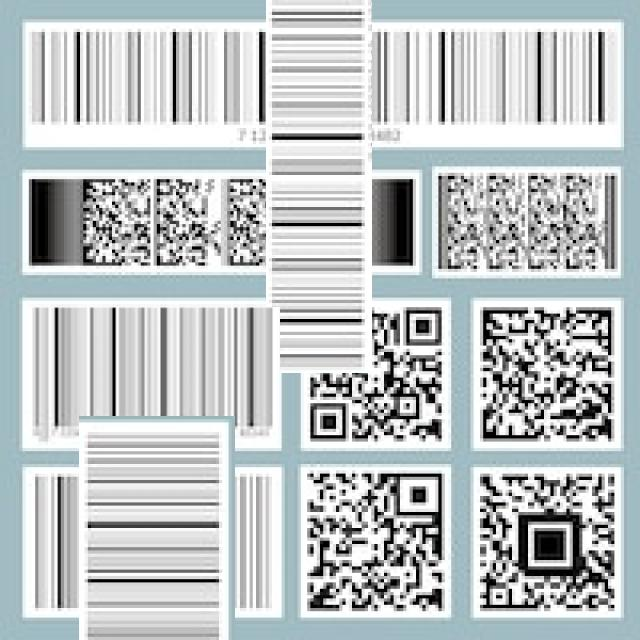Barkod: (145, 0, 492, 252), (52, 441, 261, 640), (25, 307, 280, 438)
